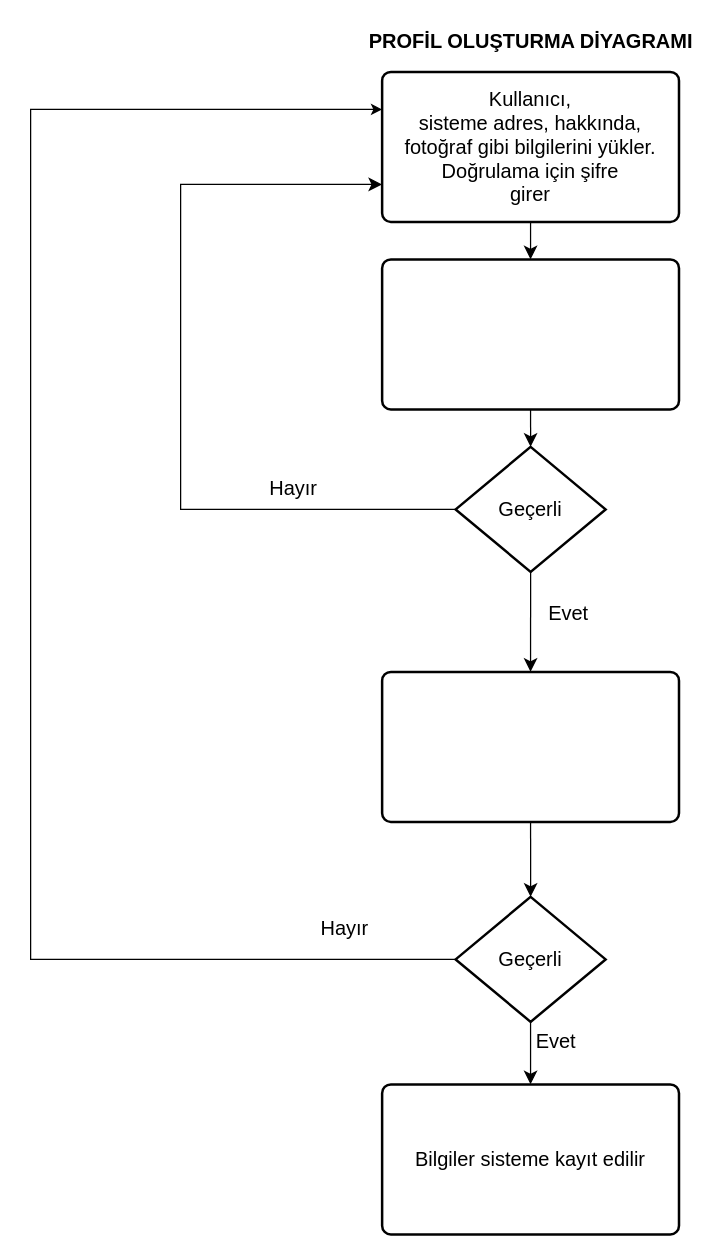
The diagram is 728 pixels wide and 1256 high, and some of its shapes have lost their labels. Here are the shapes that lost their labels. From the top down, the centre of each, then its label:
point (530, 334): Girilen şifrenin doğruluğu kontrol edilir
point (530, 746): Girilen Verilerin geçerliğini kontrol et
